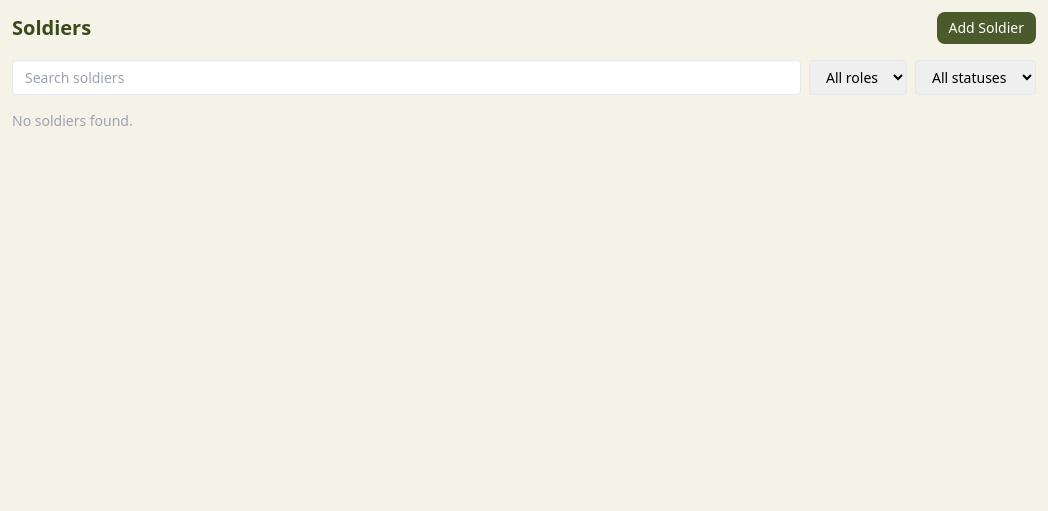
it: SoldiersPage › shows add form with Army ID and name fields when Add Soldier button is clicked
Click the button "Add Soldier" at (986, 28), box [936,12,1036,44]
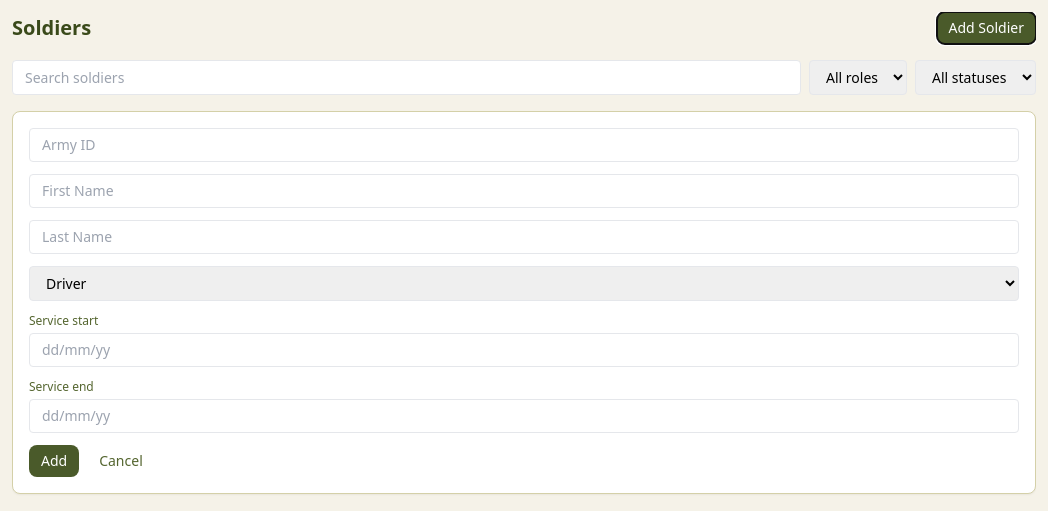
Expected: the field with placeholder "Army ID" is shown, [29,128,1019,162]
Expected: the field with placeholder "First Name" is shown, [29,174,1019,208]
Expected: the field with placeholder "Last Name" is shown, [29,220,1019,254]
